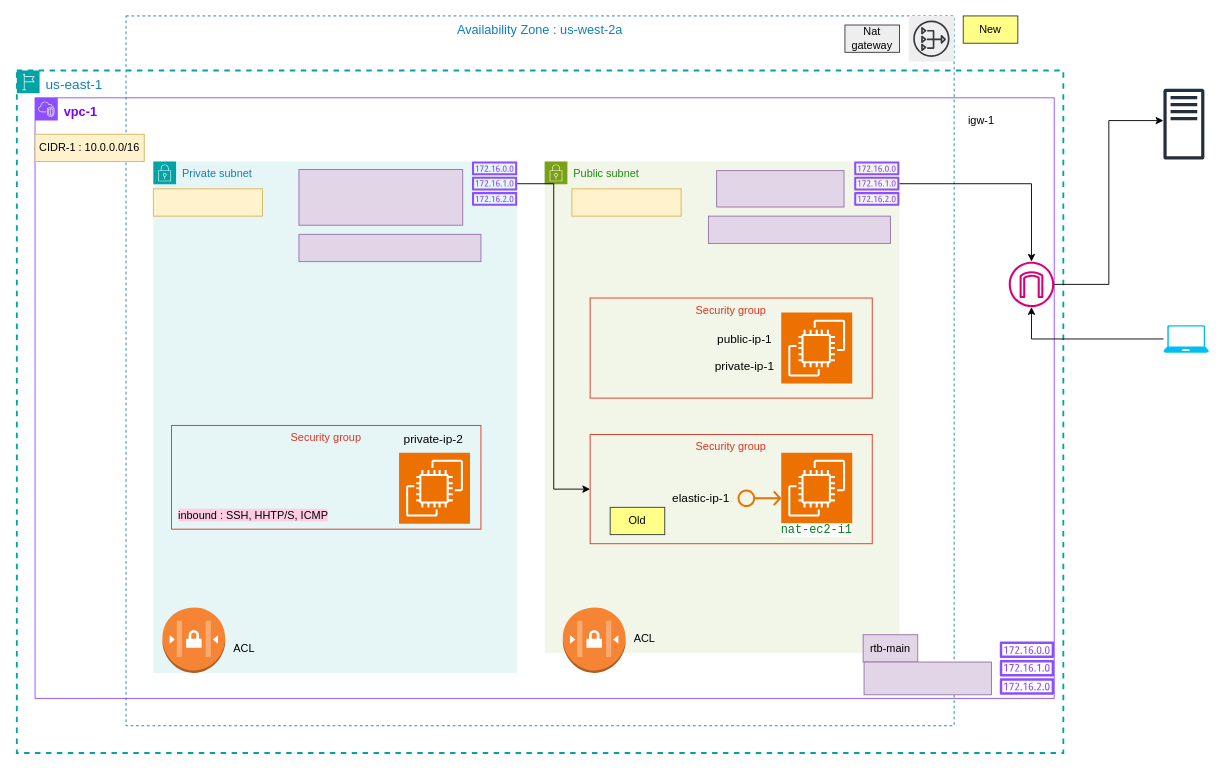
Some shapes in this 1224 by 770 pixel diagram are drawn without their labels. The centre of each missing label's shape, as x and y in pixels:
"- 0.0.0.0/0 - igw-1 - subnet CIRD - local" goes at (x=780, y=188).
"- 0.0.0.0/0 - nat-ec2-i1 - subnet CIRD - local - 0.00.0/0 - Nat gateway" goes at (x=380, y=197).
"- VPC CIDR-1 - local" goes at (x=927, y=678).
"CIDR : 10.0.0.0/24" goes at (x=626, y=202).
"CIDR : 10.0.16.0/20" goes at (x=207, y=202).
"rtb-explicit-1-private-vpc1" goes at (x=389, y=247).
"rtb-explicit-1-public-vpc1" goes at (x=799, y=229).
